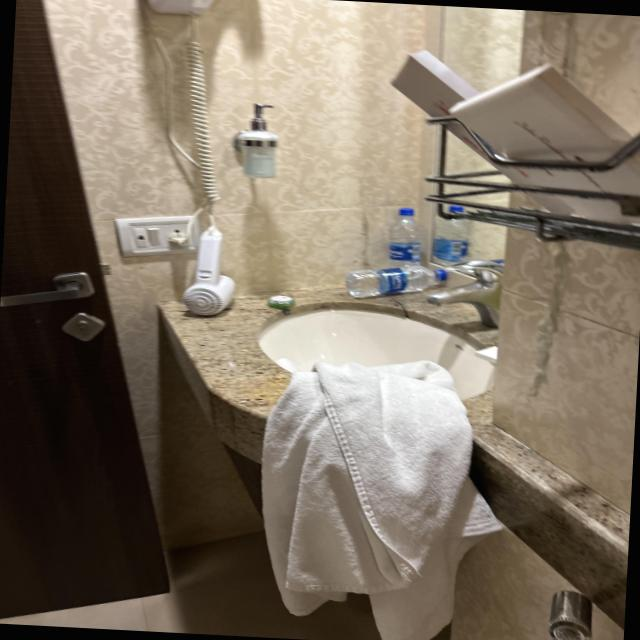mess: (114, 190, 486, 640), (333, 23, 640, 317)
